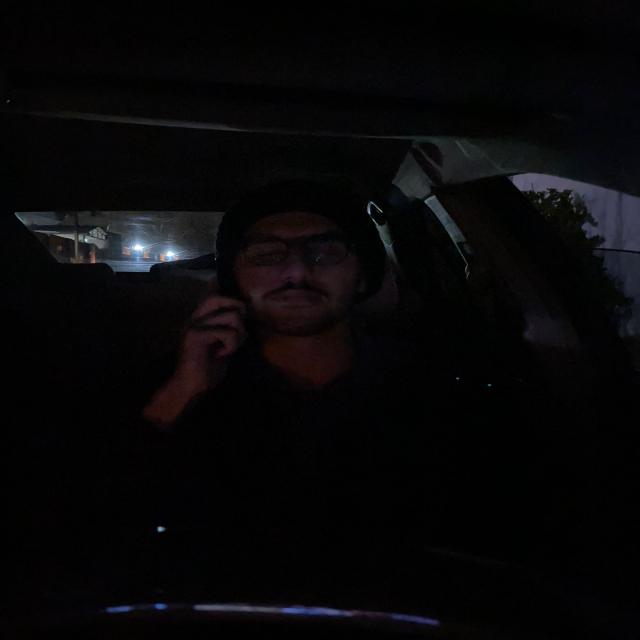mobile: (208, 270, 264, 376)
person: (224, 190, 380, 346)
